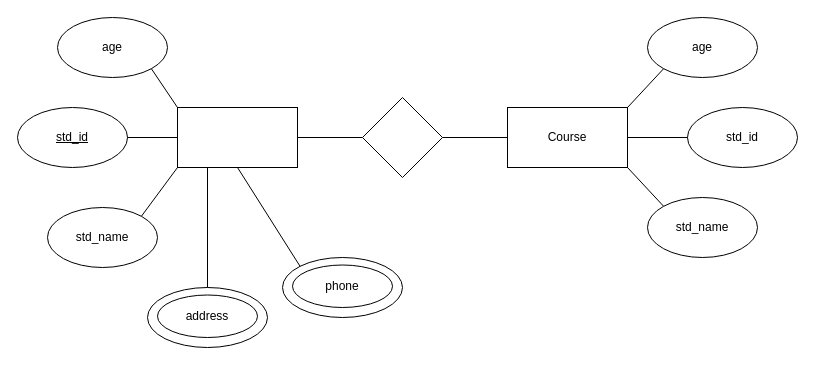
The diagram is 815 pixels wide and 365 high, and some of its shapes have lost their labels. The shapes that lost their labels are listed below. From the top down, each one's box as (x1, y1, x2, y2) in pixels, then its label:
(176, 106, 298, 168): Students
(362, 96, 442, 178): Study
